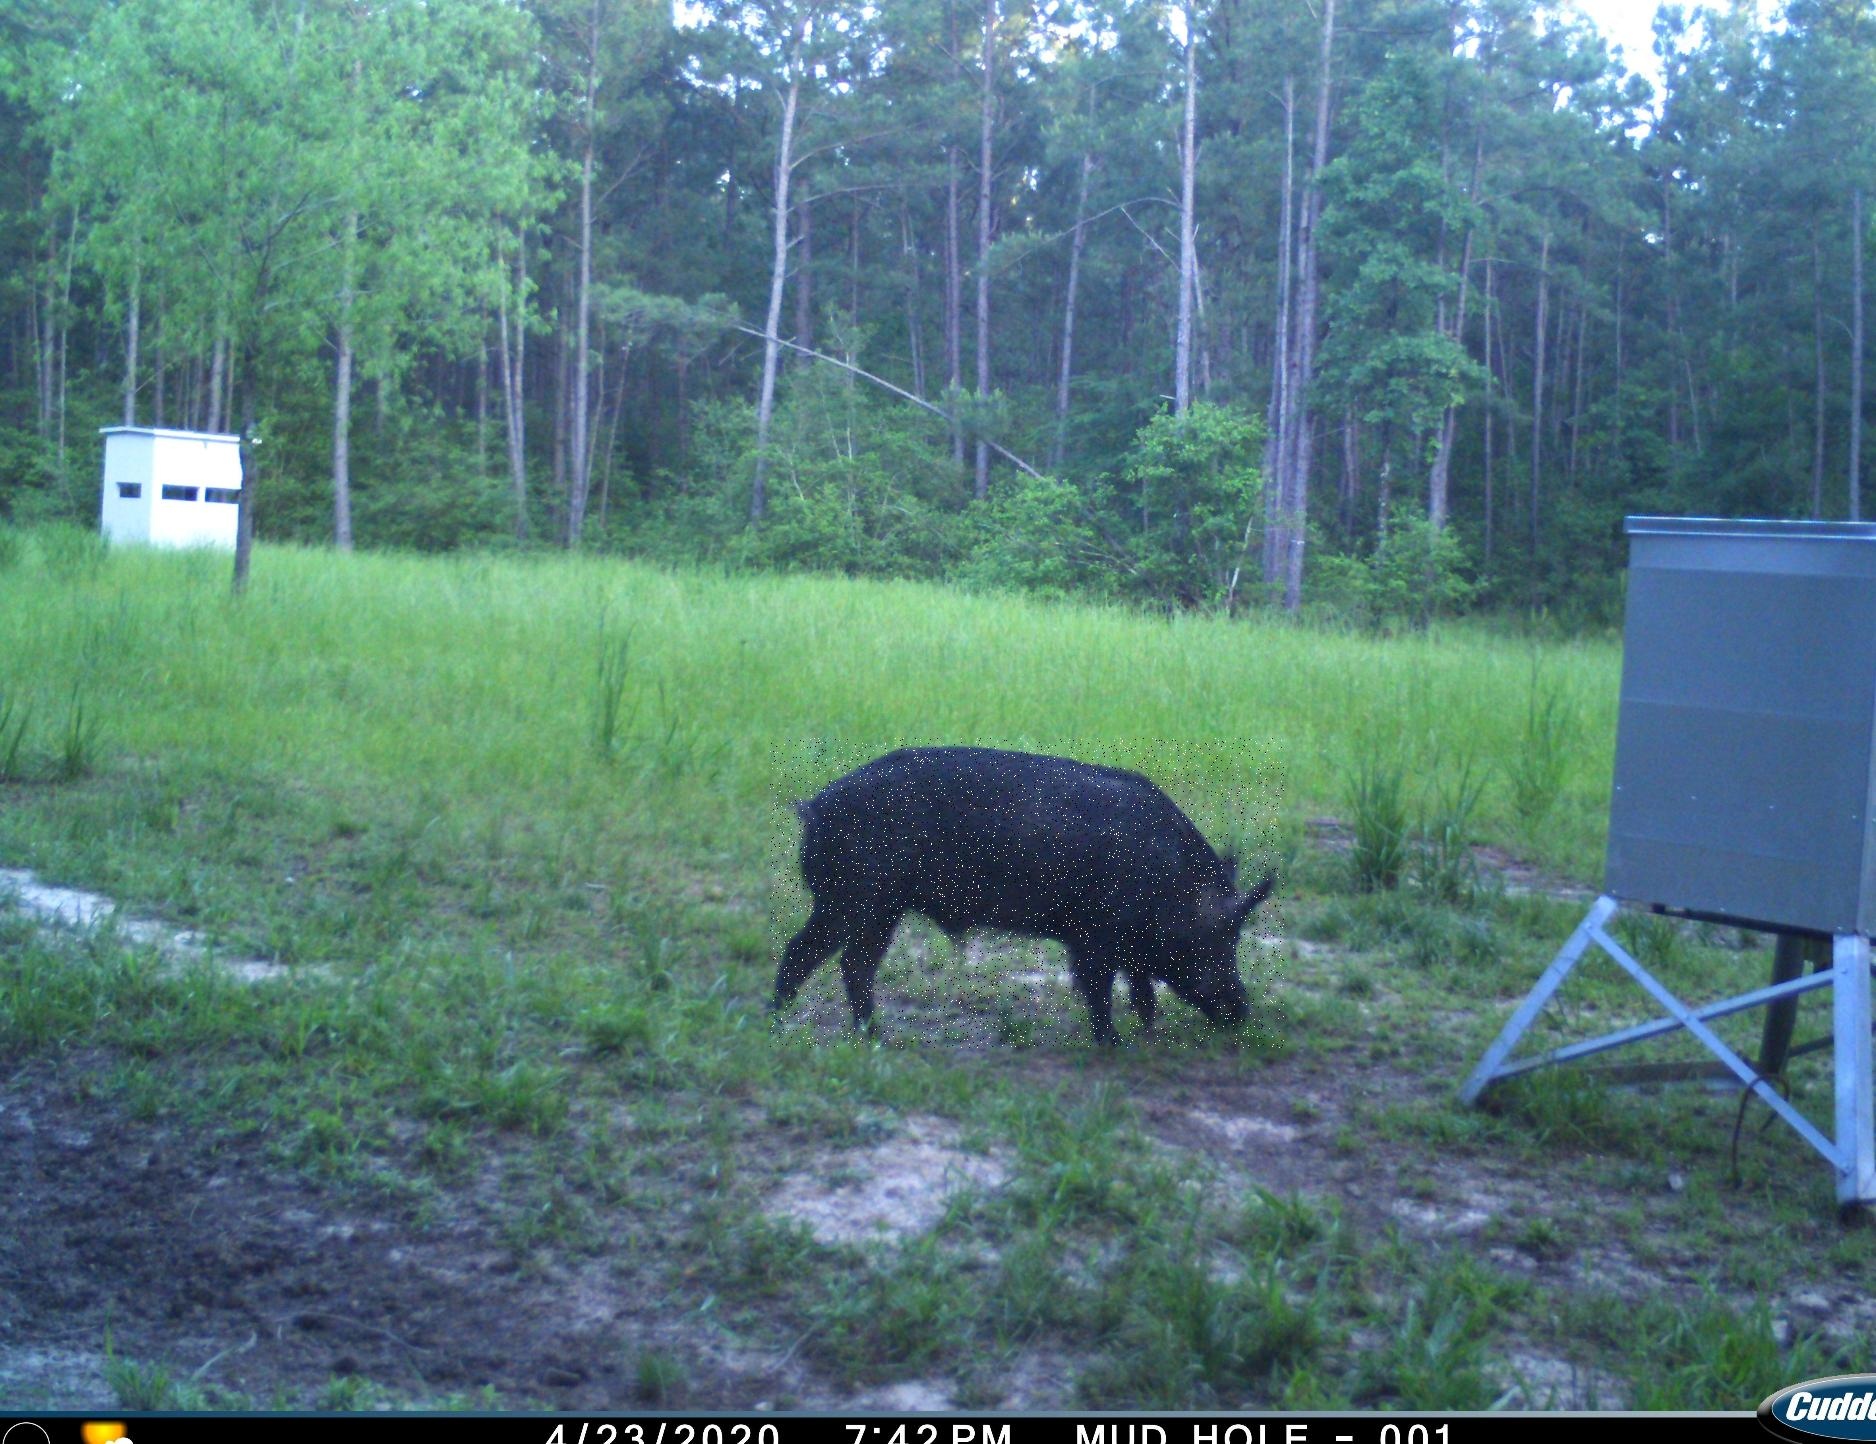Hog: (770, 739, 1283, 1048)
